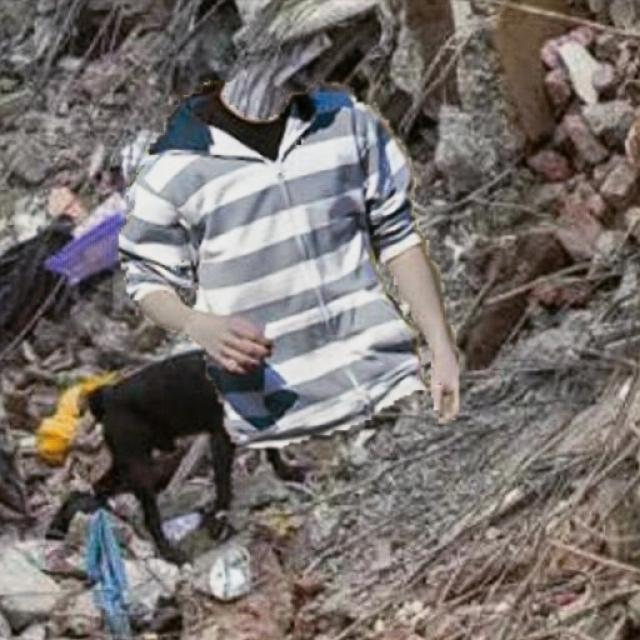Person in Rubble: (119, 80, 458, 446)
